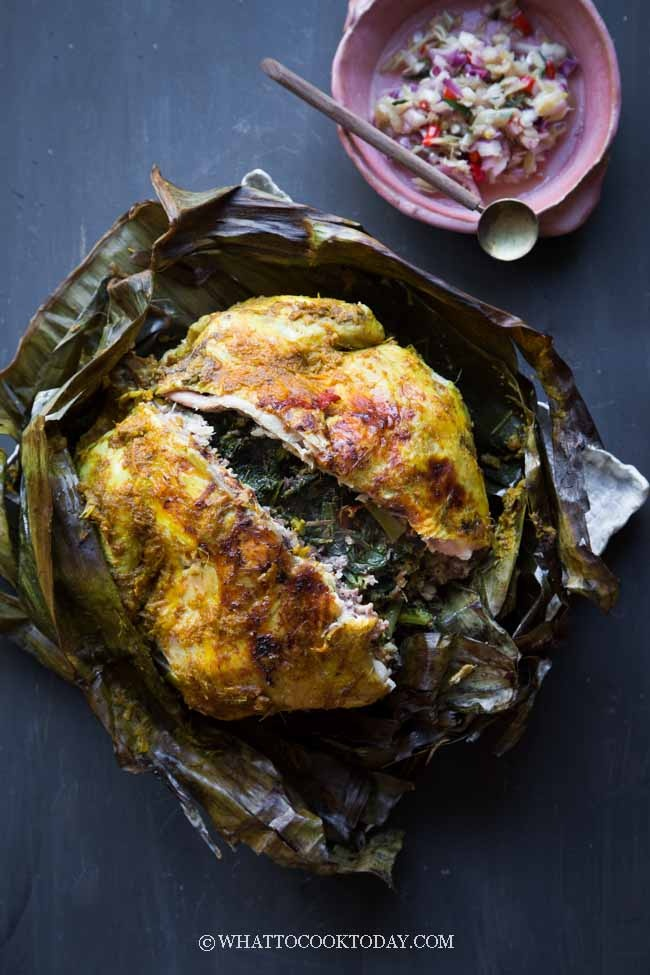ayam_betutu: (83, 296, 491, 718)
